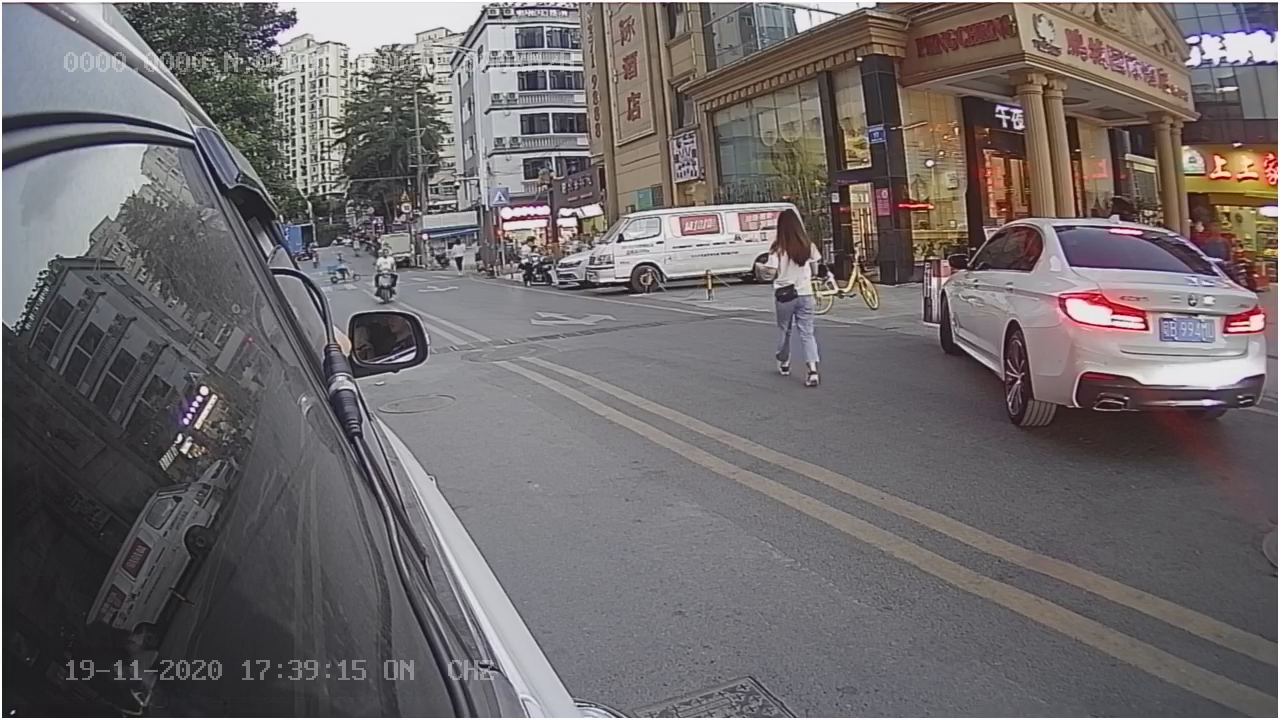person: (759, 210, 829, 388)
